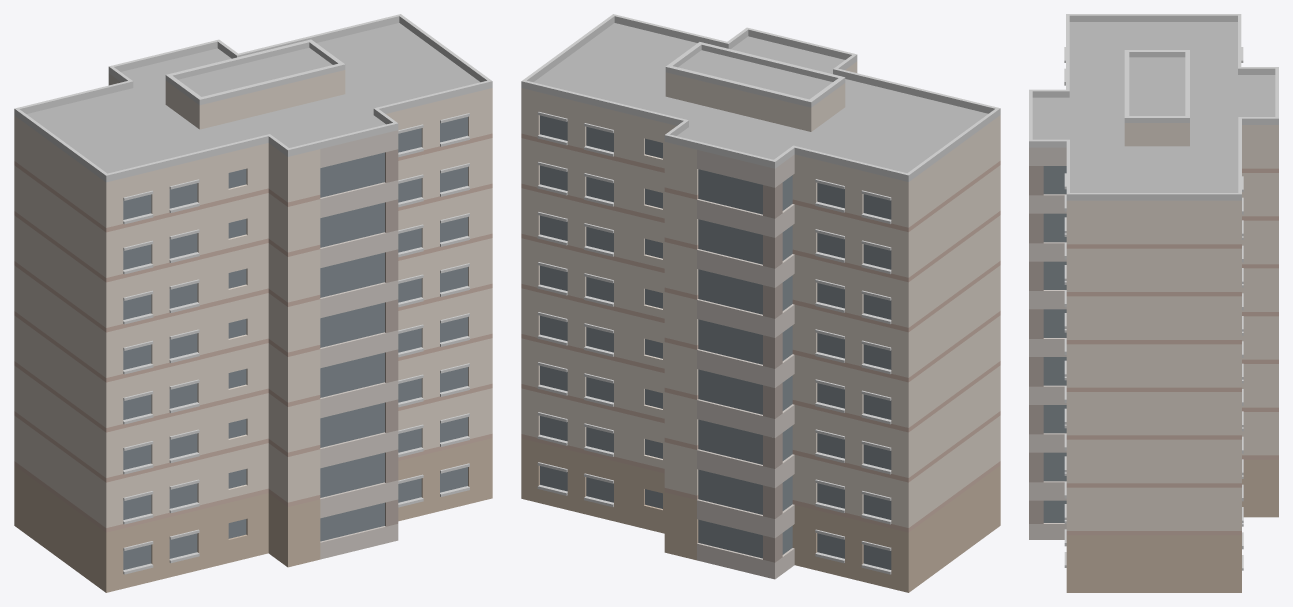
Rendered from 住宅楼01.gltf.
The picture shows the model from 3 angles, left to right: view 1: azimuth 30°, elevation 25°; view 2: azimuth 150°, elevation 25°; view 3: azimuth 270°, elevation 25°; orthographic projection. The views are drawn at different scales.
Parts seen in each view (by area): view 1: 住宅楼04; view 2: 住宅楼04; view 3: 住宅楼04.
Part boxes in pixels (bbox=[...]): 住宅楼04: bbox=[14, 14, 492, 592]; 住宅楼04: bbox=[521, 14, 1000, 592]; 住宅楼04: bbox=[1029, 14, 1278, 592].
Bounding box in the file's own units: 18.03 × 19.61 × 10.56.
